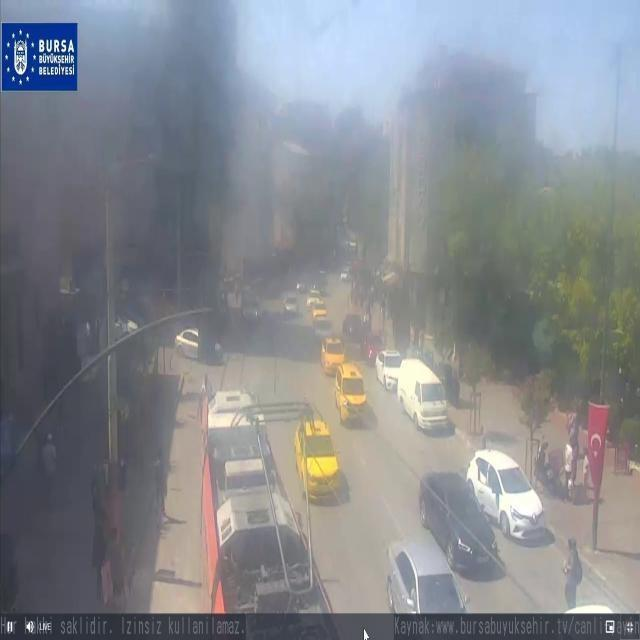Car: (417, 470, 499, 576), (467, 451, 547, 540), (384, 538, 466, 614), (295, 420, 345, 501), (334, 363, 366, 422), (320, 338, 346, 374), (376, 350, 401, 386), (342, 314, 362, 338), (312, 298, 327, 316), (284, 296, 298, 313)
Van: (396, 357, 448, 431)
